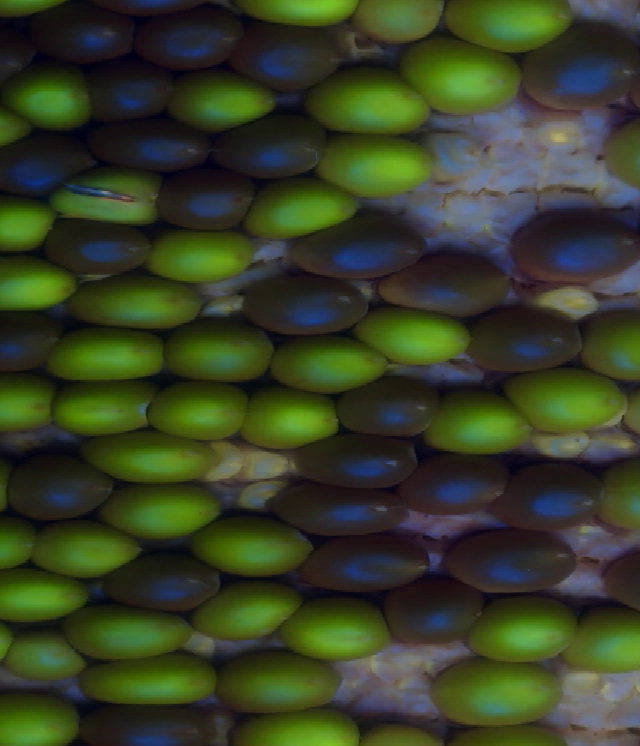fluorescent: (394, 35, 523, 116), (312, 123, 440, 201), (241, 173, 372, 245), (438, 654, 562, 728), (302, 66, 435, 133), (502, 367, 631, 436), (70, 267, 210, 329), (354, 300, 476, 368), (80, 430, 221, 486), (162, 318, 276, 386), (81, 654, 223, 708), (430, 389, 536, 460), (104, 479, 224, 541), (191, 578, 298, 647), (216, 653, 347, 709), (269, 330, 386, 392), (478, 596, 582, 665), (197, 520, 316, 580), (65, 602, 190, 658), (58, 160, 169, 223), (6, 59, 96, 136), (444, 1, 577, 52), (52, 373, 165, 433), (48, 323, 168, 379), (152, 376, 254, 441), (148, 222, 257, 282), (28, 523, 147, 576), (170, 69, 277, 127), (247, 385, 342, 450), (292, 598, 389, 660), (222, 709, 373, 746), (0, 683, 82, 746), (0, 563, 92, 619), (566, 605, 640, 674), (0, 247, 74, 316), (0, 362, 62, 435), (348, 1, 446, 45), (6, 630, 83, 683), (582, 312, 640, 380), (0, 193, 63, 249), (245, 1, 358, 29), (445, 723, 567, 746), (359, 716, 449, 746), (610, 110, 640, 195), (603, 463, 640, 530), (0, 512, 38, 576), (0, 90, 35, 153), (0, 1, 75, 17)
nonfluorescent: (444, 520, 590, 598), (523, 19, 640, 113), (511, 210, 640, 290), (266, 466, 412, 535), (291, 207, 425, 278), (384, 243, 512, 317), (293, 530, 440, 594), (462, 302, 592, 373), (84, 111, 214, 180), (502, 454, 615, 533), (402, 443, 516, 518), (8, 449, 118, 526), (330, 370, 452, 439), (101, 550, 226, 616), (213, 115, 336, 182), (40, 207, 156, 278), (241, 273, 375, 334), (291, 430, 427, 490), (376, 577, 491, 644), (73, 694, 217, 746), (238, 20, 340, 92), (135, 7, 252, 67), (152, 168, 258, 232), (28, 4, 138, 63), (0, 130, 102, 193), (80, 62, 183, 123), (0, 305, 61, 374), (598, 545, 640, 616), (93, 1, 207, 19)
